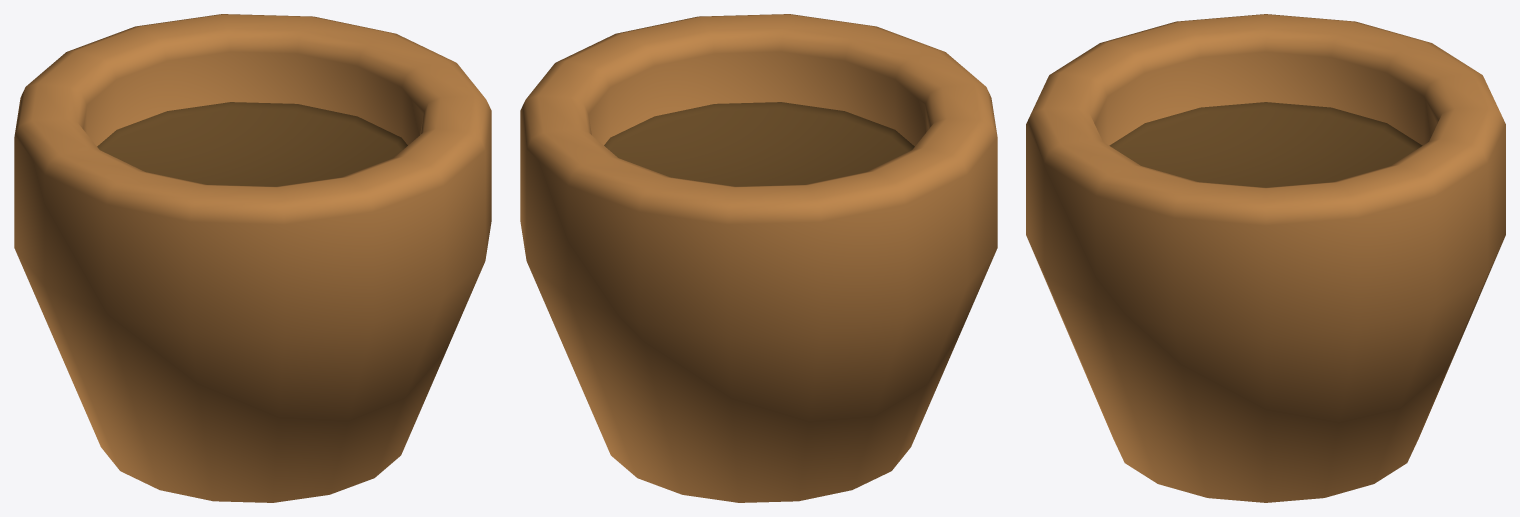
Rendered from pot.glb.
The picture shows the model from 3 angles, left to right: view 1: azimuth 30°, elevation 25°; view 2: azimuth 150°, elevation 25°; view 3: azimuth 270°, elevation 25°; orthographic projection.
Visible parts, largest first — view 1: Pot; view 2: Pot; view 3: Pot.
Boxes of the visible parts, x1=… form: Pot: x1=14, y1=14, x2=491, y2=502; Pot: x1=520, y1=14, x2=997, y2=502; Pot: x1=1026, y1=14, x2=1505, y2=502.
Size of the model in its own units: 3.14 by 2.38 by 3.14.
